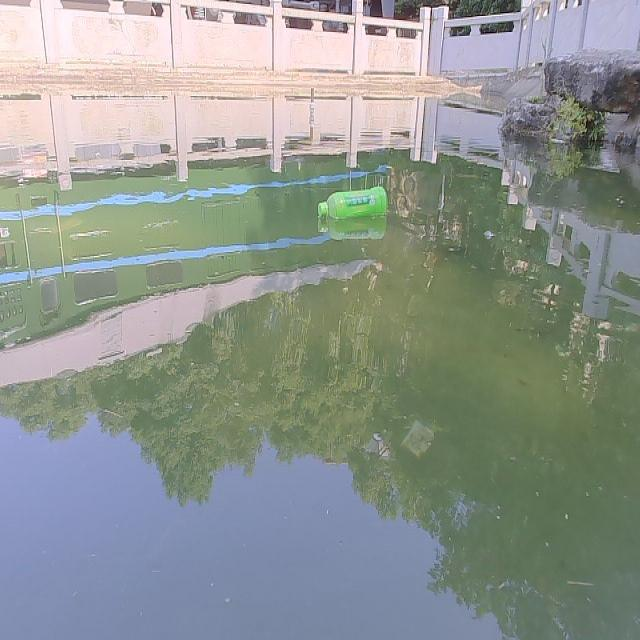bottle: (314, 182, 390, 222)
